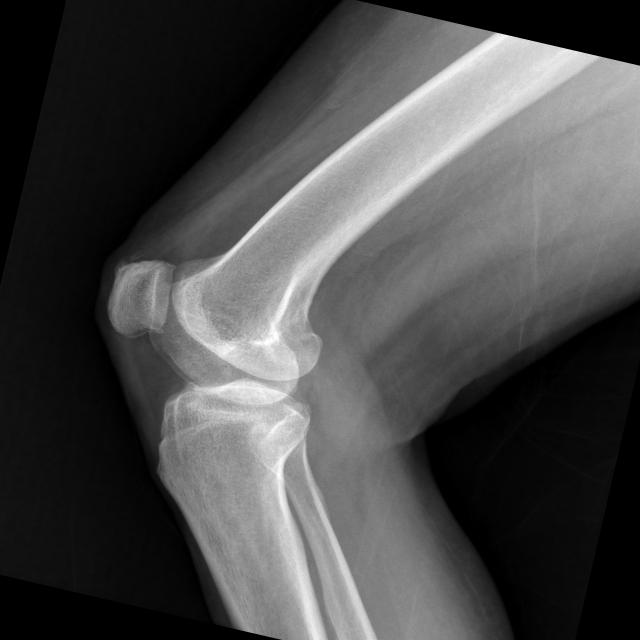Knee: (74, 238, 342, 484)
